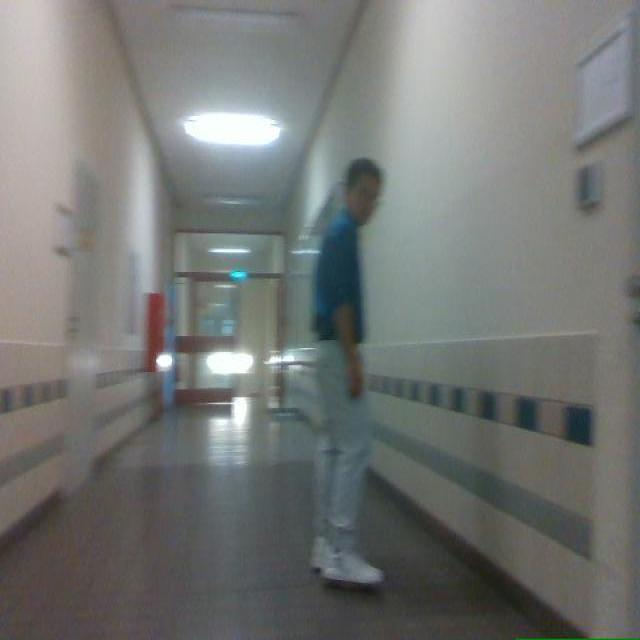humans: (310, 157, 383, 587)
